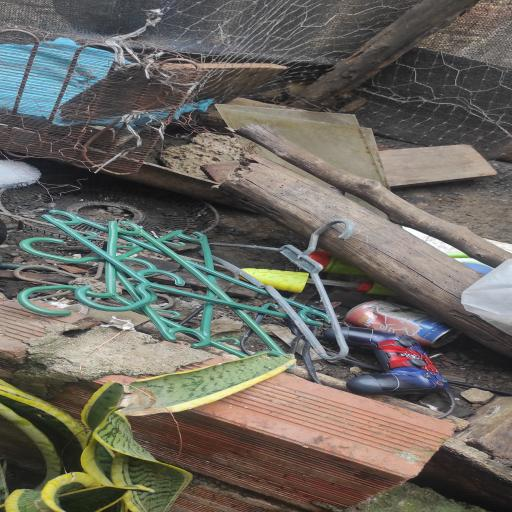ControlPlay4: (341, 327, 449, 394)
